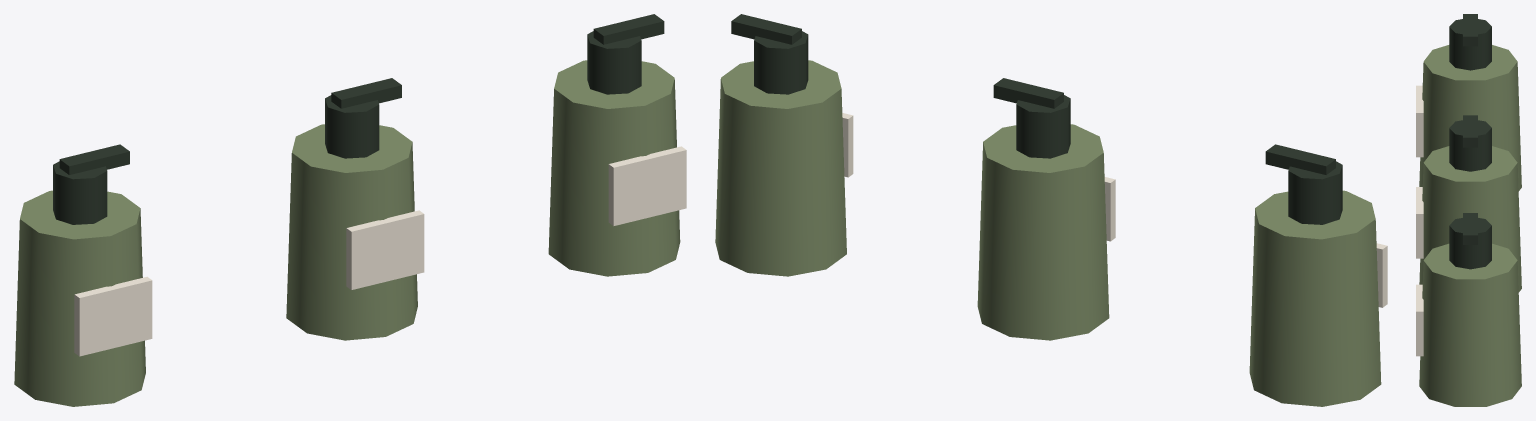
The model's file is bathroom_ref_cabinet_top.glb.
3 views of the same model, side by side, from view 1: azimuth 30°, elevation 25°; view 2: azimuth 150°, elevation 25°; view 3: azimuth 270°, elevation 25° (orthographic). The views are drawn at different scales.
Size of the model in its own units: 0.6641 by 0.2163 by 0.1238.
